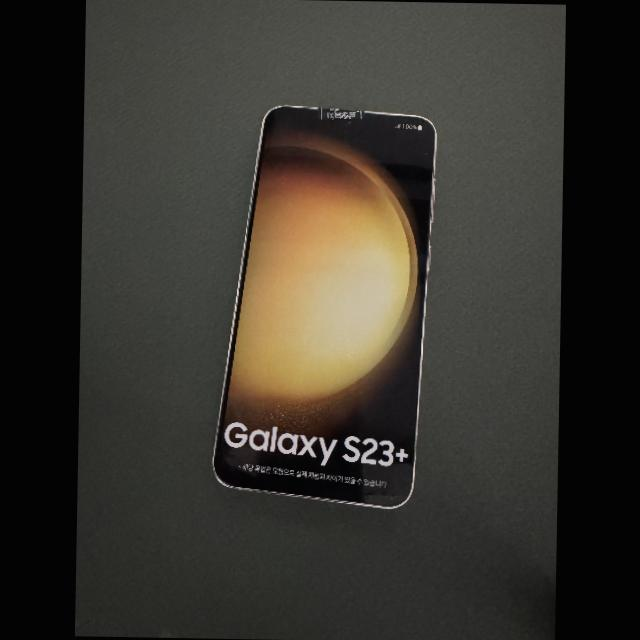lens: (344, 119, 353, 125)
phone: (213, 105, 436, 508)
sticker: (317, 107, 365, 120)
